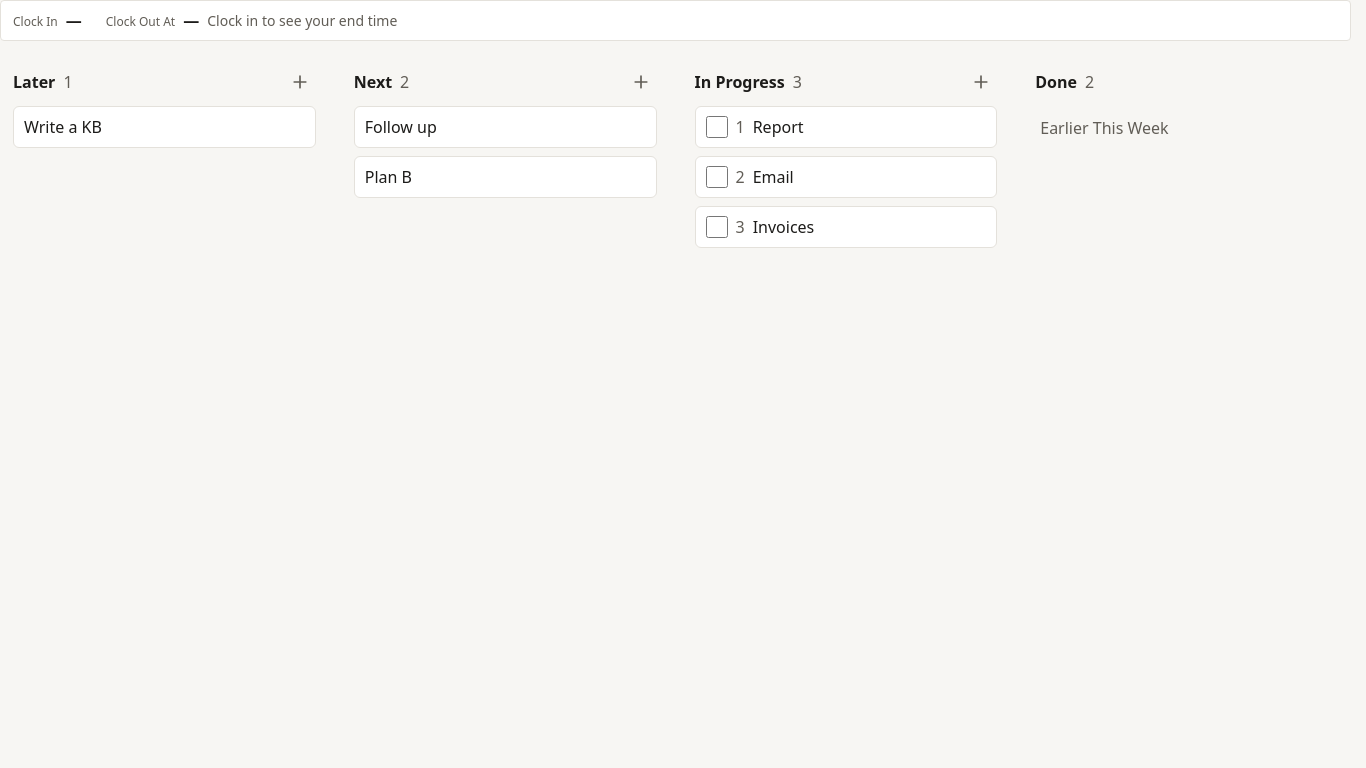
starting the focus timer › pulls and starts a Next card with three rows open without the nudge, since starting a timer never asks
This screenshot has width=1366, height=768.
Click the button "Follow up" at (401, 127), box [365,115,646,139]
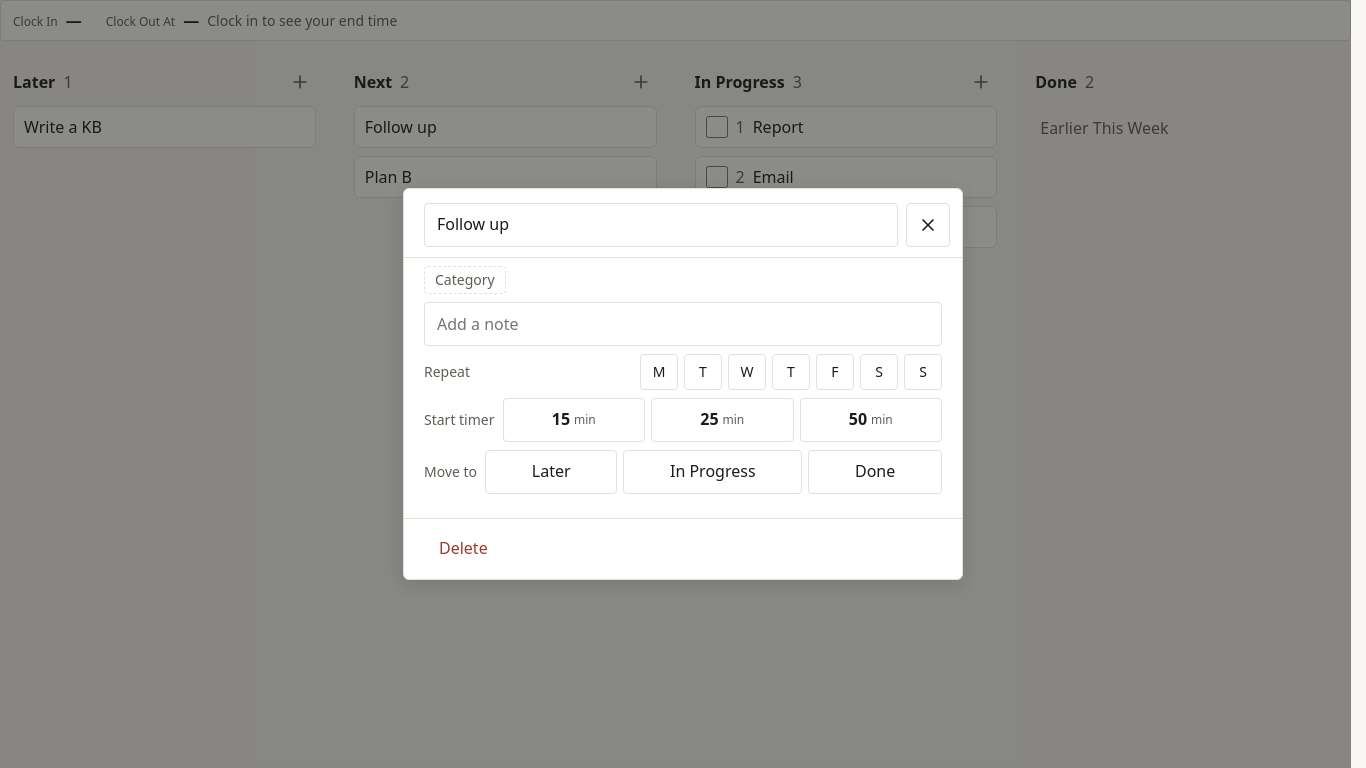
Click the button "25 min" at (722, 420), box [651,398,794,442]
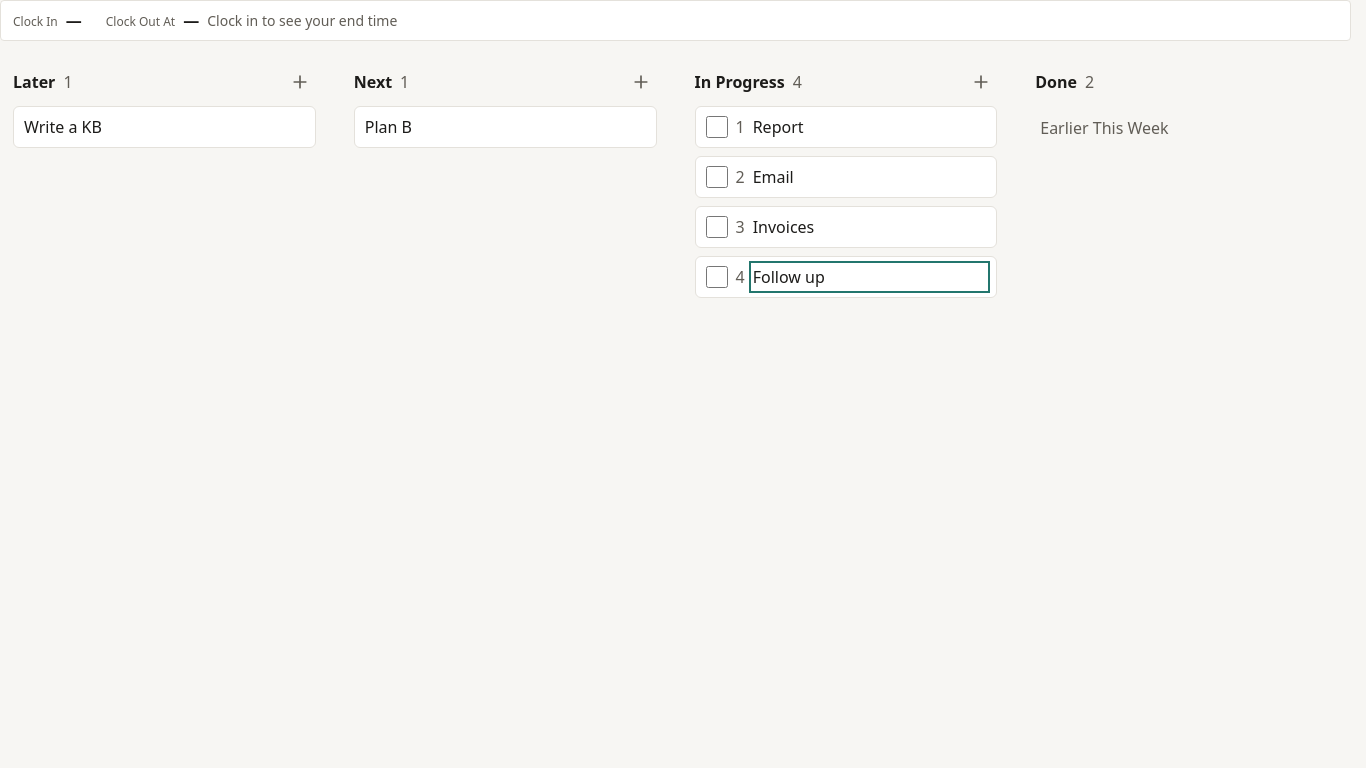
Check: the button "Category" is gone
